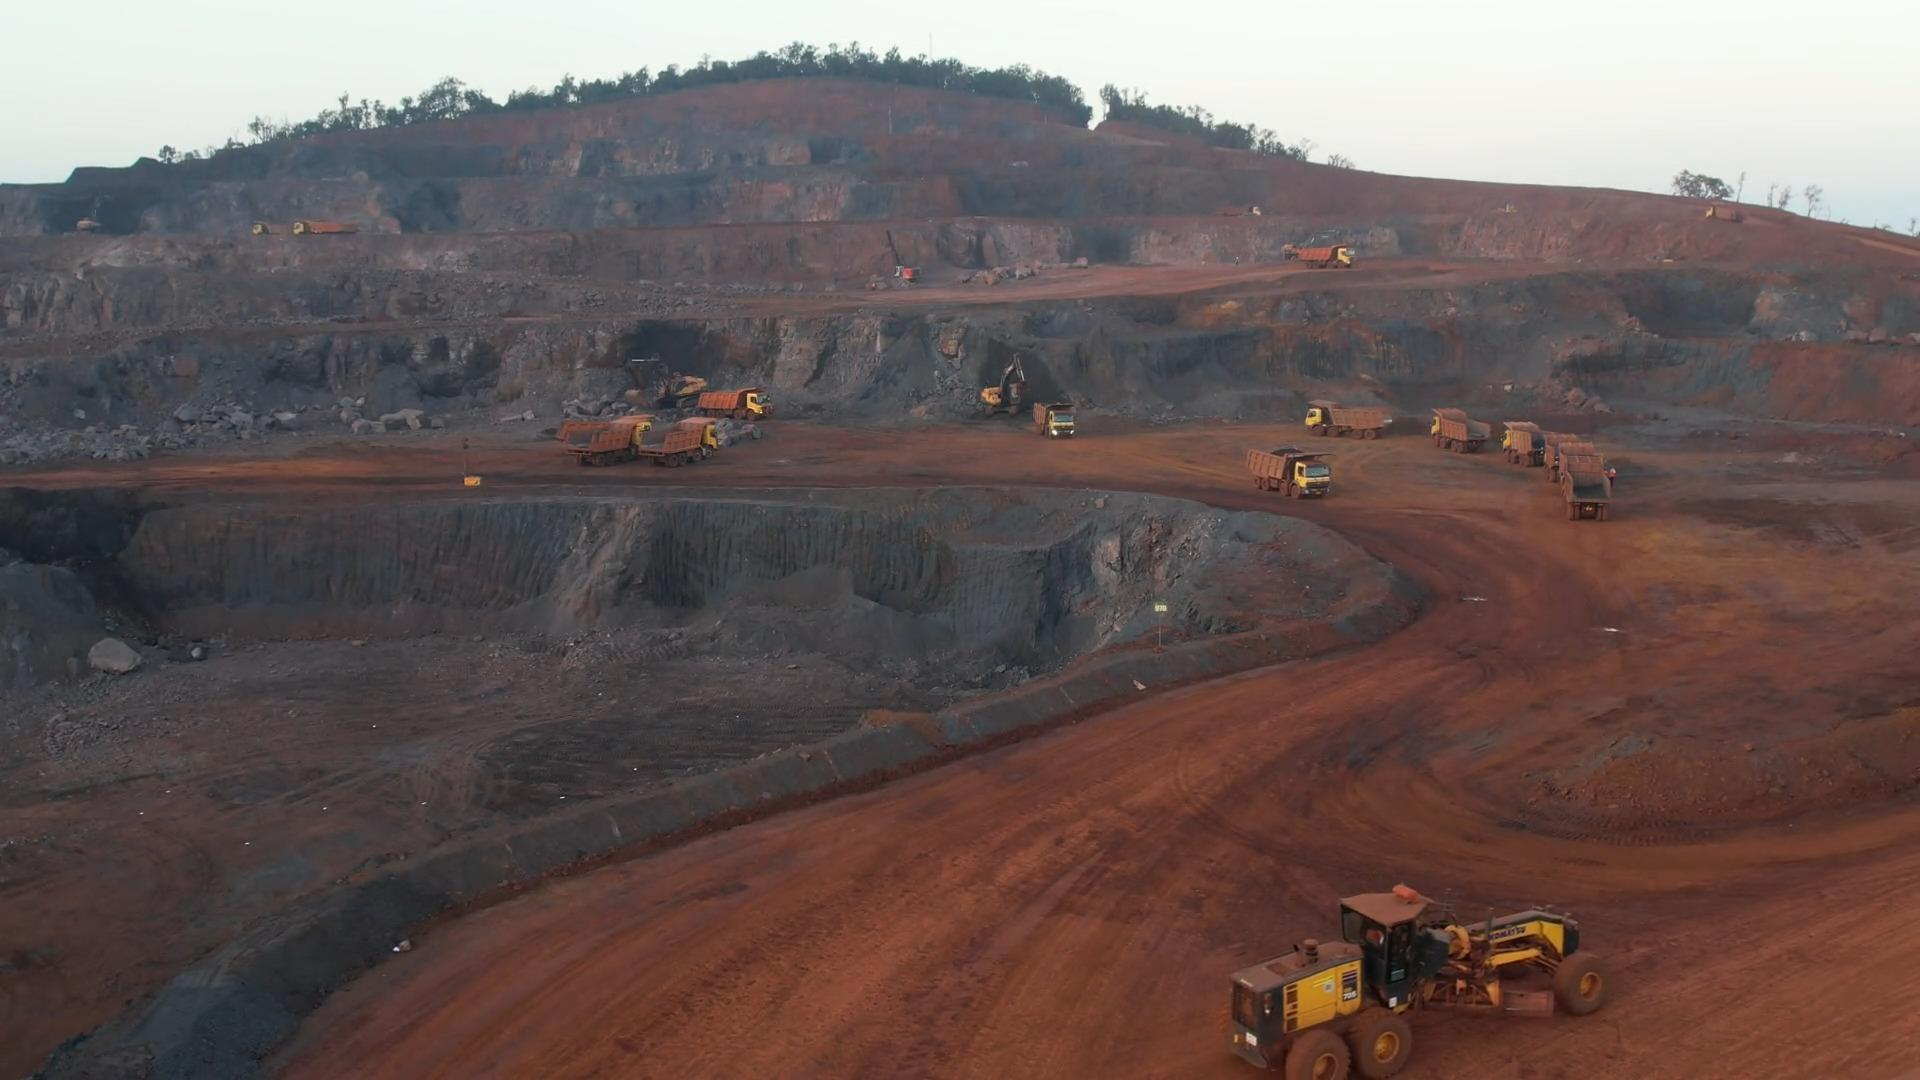excavator: (622, 356, 696, 406), (981, 353, 1029, 414)
